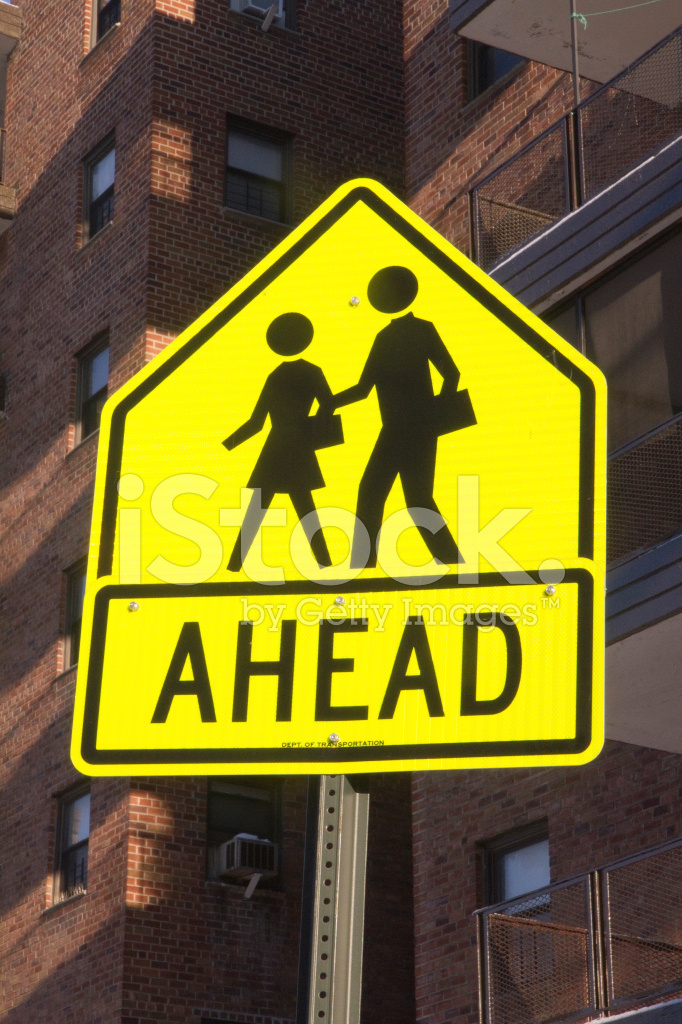slow: (88, 175, 611, 612)
